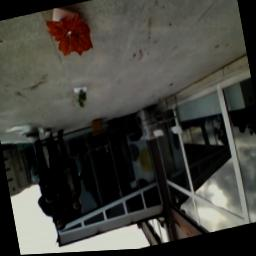herb: (76, 90, 91, 110)
wild: (46, 12, 97, 66)
